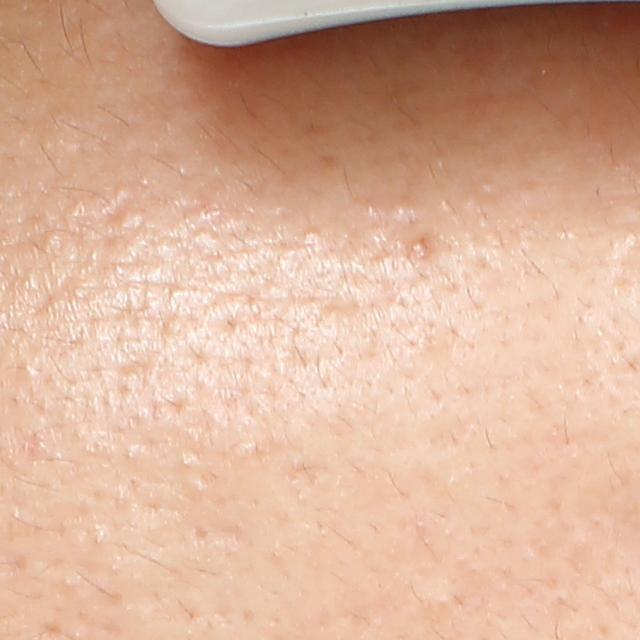comedo: (407, 234, 431, 260)
